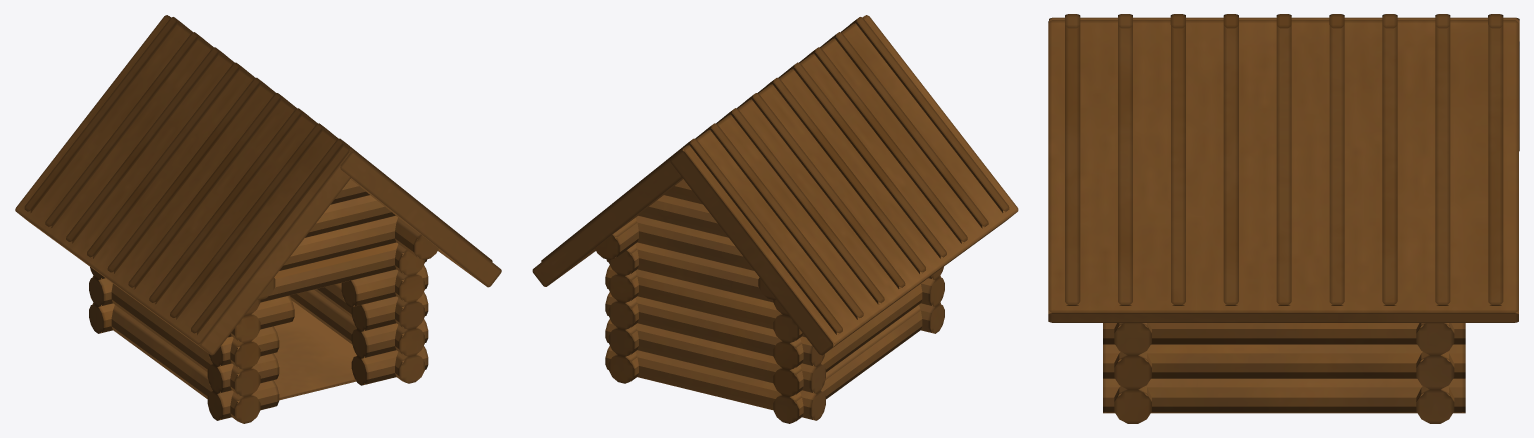
Rendered from shackModdel.fbx.
3 renders of one model, left to right at view 1: azimuth 30°, elevation 25°; view 2: azimuth 150°, elevation 25°; view 3: azimuth 270°, elevation 25°, orthographic. The views are drawn at different scales.
Parts seen in each view (by area): view 1: Roof, Walls, RoofDetailing, FloorAndCeiling; view 2: Roof, Walls, RoofDetailing; view 3: Roof, RoofDetailing, Walls.
Part boxes in pixels (bbox=[...]): Roof: bbox=[15, 15, 501, 355]; Walls: bbox=[89, 179, 438, 423]; RoofDetailing: bbox=[24, 17, 492, 334]; FloorAndCeiling: bbox=[274, 301, 356, 400]; Roof: bbox=[532, 15, 1018, 355]; Walls: bbox=[595, 179, 944, 423]; RoofDetailing: bbox=[541, 17, 1009, 334]; Roof: bbox=[1048, 17, 1519, 322]; RoofDetailing: bbox=[1065, 14, 1503, 305]; Walls: bbox=[1103, 323, 1465, 423].
Bounding box in the file's own units: 369 × 316 × 390.
1 material, 1 textured.
